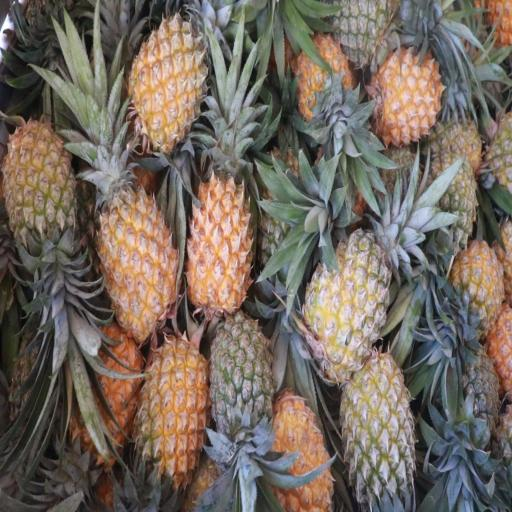------------------------------: (307, 234, 386, 378), (340, 360, 414, 506)
Pineapple - v8 v1: (101, 165, 177, 333), (4, 116, 74, 265), (131, 17, 206, 145), (141, 339, 207, 478), (191, 173, 253, 320), (80, 328, 142, 449), (272, 397, 330, 512), (373, 49, 442, 142), (293, 38, 350, 126), (454, 243, 504, 336)
